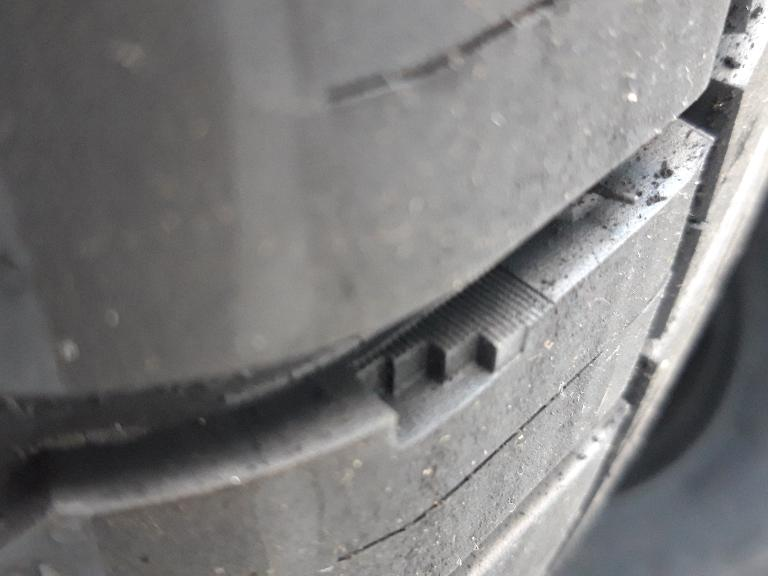temoin:75: (344, 300, 536, 462)
